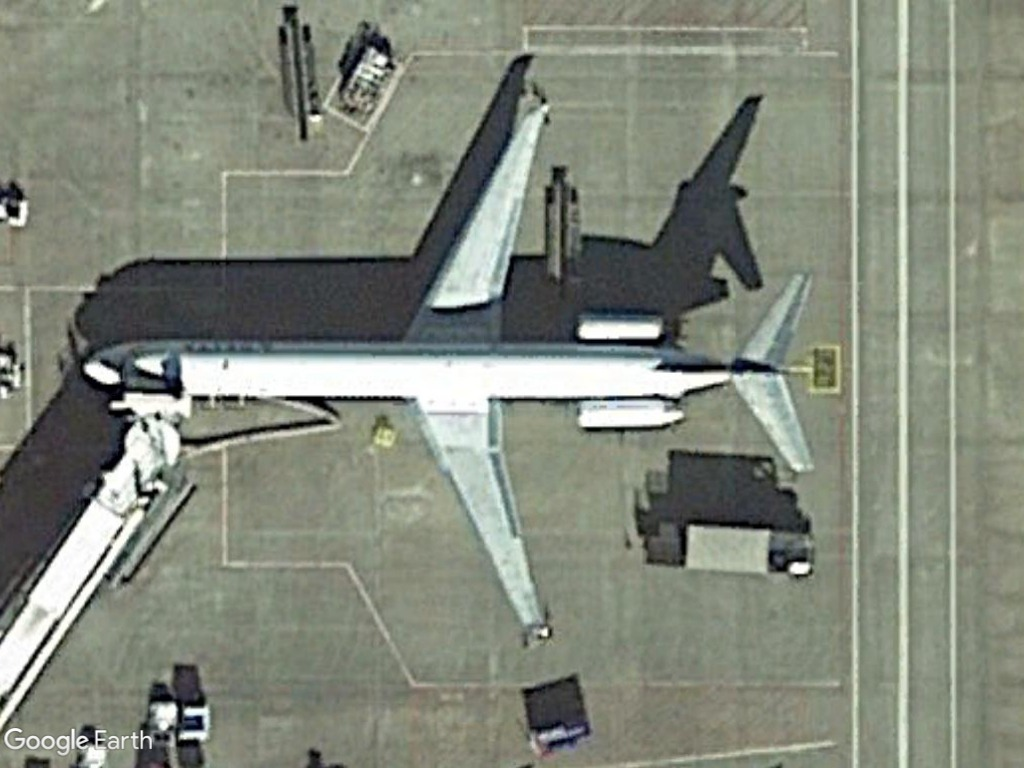chartered: (71, 79, 821, 653)
